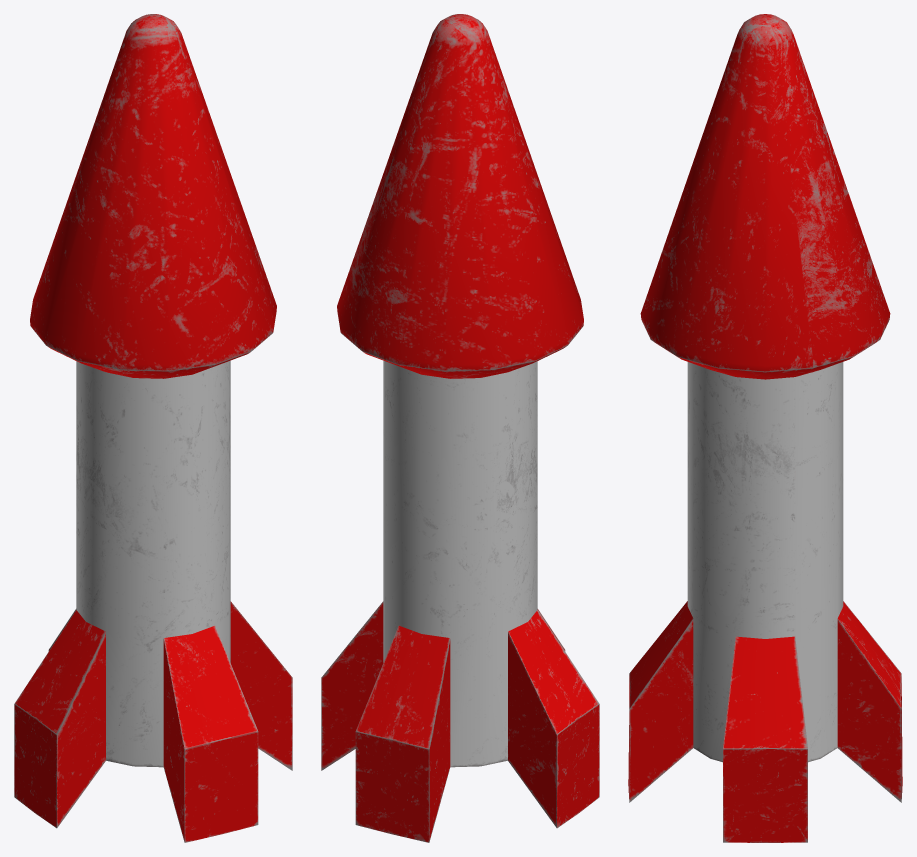
The model's file is CoheteGunVoltReescalado.fbx.
3 views of the same model, side by side, from view 1: azimuth 30°, elevation 25°; view 2: azimuth 150°, elevation 25°; view 3: azimuth 270°, elevation 25° (orthographic).
Parts seen in each view (by area): view 1: Circle; view 2: Circle; view 3: Circle.
Boxes of the visible parts, x1,y1,x2,y2 form: Circle: [14, 14, 292, 842]; Circle: [321, 14, 599, 842]; Circle: [628, 14, 902, 842].
Size of the model in its own units: 31.41 by 96.97 by 31.41.
